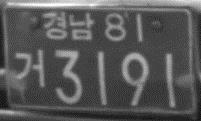1: (160, 52, 182, 106), (92, 50, 112, 105), (132, 14, 149, 42)
3: (53, 49, 83, 104)
8: (104, 12, 126, 41)
9: (121, 52, 148, 106)
거: (14, 48, 46, 87)
경남_O: (40, 10, 94, 41)
